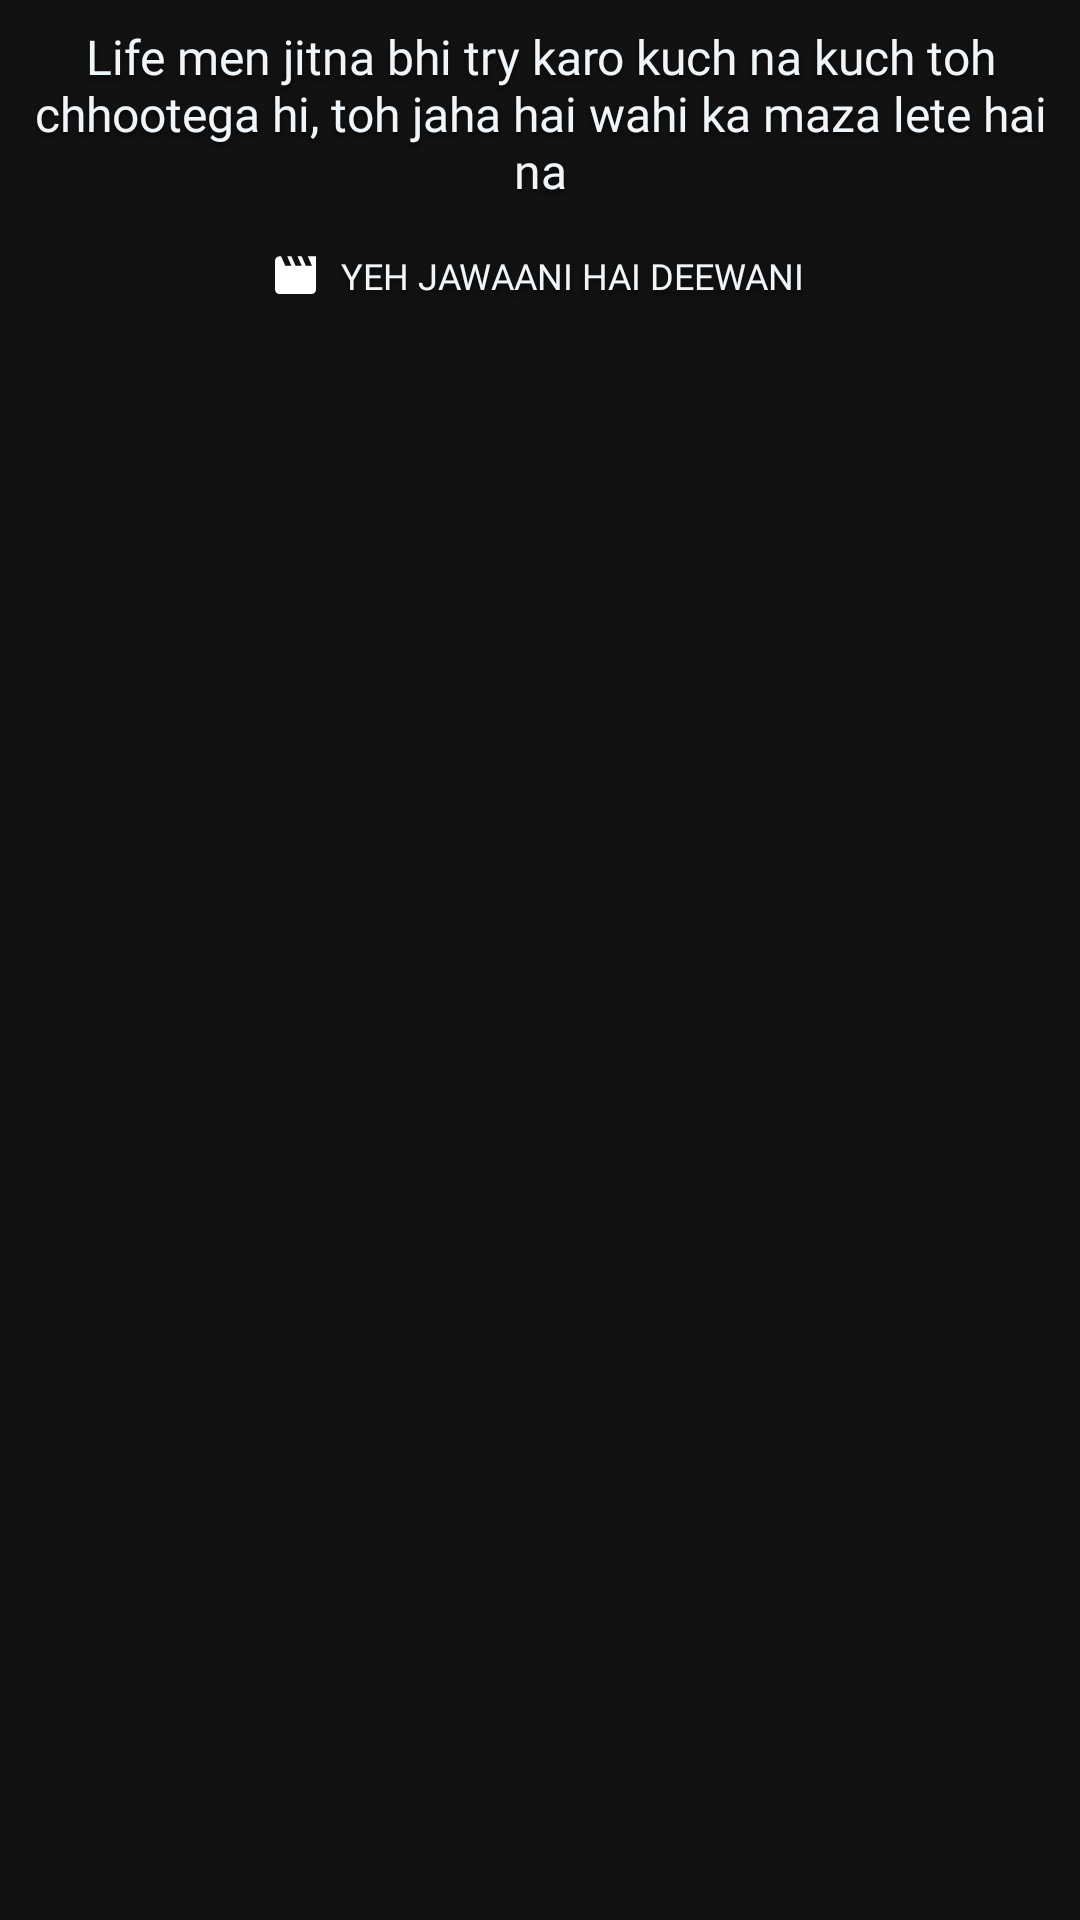

Screen size 1080x1920. Icon name, then its box in pixels as (x1=x1, y1=y1, x2=x2, y2=y2):
movie: (x1=275, y1=256, x2=316, y2=294)
